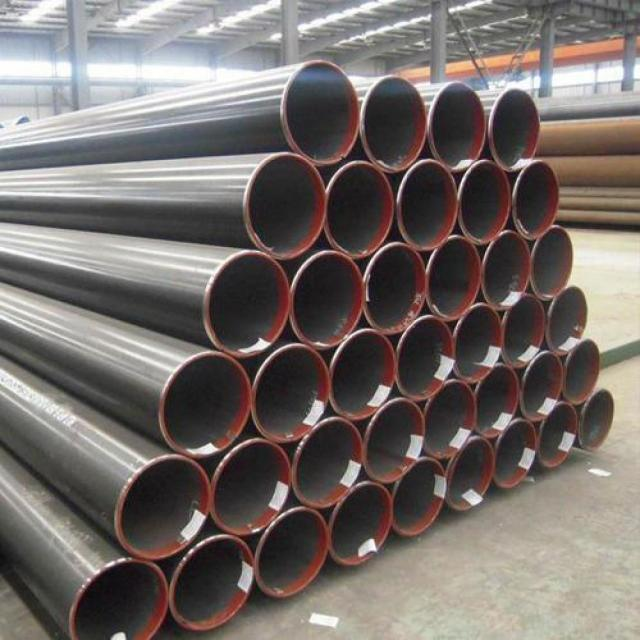pipe: (156, 348, 255, 461), (114, 452, 215, 560), (239, 150, 330, 263), (204, 248, 293, 358), (64, 560, 176, 640), (282, 59, 363, 168), (288, 249, 374, 351), (168, 534, 256, 633), (210, 437, 295, 538), (253, 344, 333, 444), (323, 157, 398, 259), (253, 504, 331, 601), (290, 415, 369, 510), (359, 73, 431, 173), (326, 326, 398, 423), (360, 239, 431, 337), (393, 155, 462, 253), (421, 231, 488, 324), (327, 481, 396, 568), (361, 397, 428, 484), (429, 81, 491, 174), (393, 313, 456, 403), (456, 158, 513, 247), (487, 87, 544, 174), (478, 227, 535, 313), (391, 457, 449, 540), (422, 379, 479, 462), (451, 300, 504, 384), (512, 159, 564, 242), (445, 433, 499, 512), (526, 222, 576, 302), (471, 362, 523, 437), (499, 294, 546, 370), (494, 417, 541, 489), (544, 283, 589, 358), (520, 348, 565, 423), (538, 399, 581, 471), (561, 336, 604, 407), (581, 387, 615, 454)
